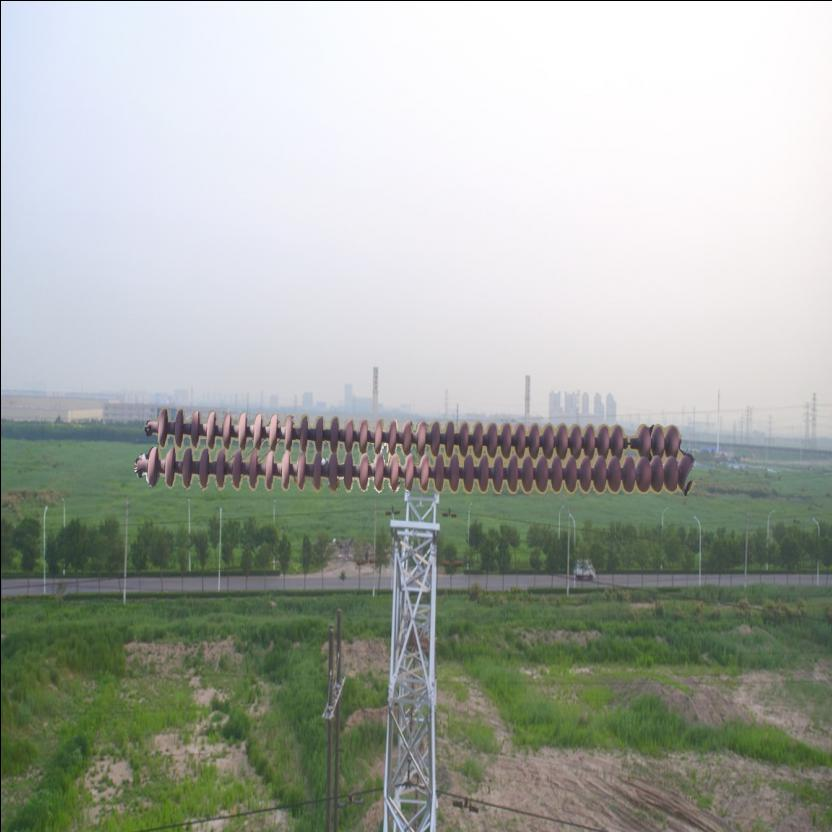defect: (609, 418, 653, 453)
